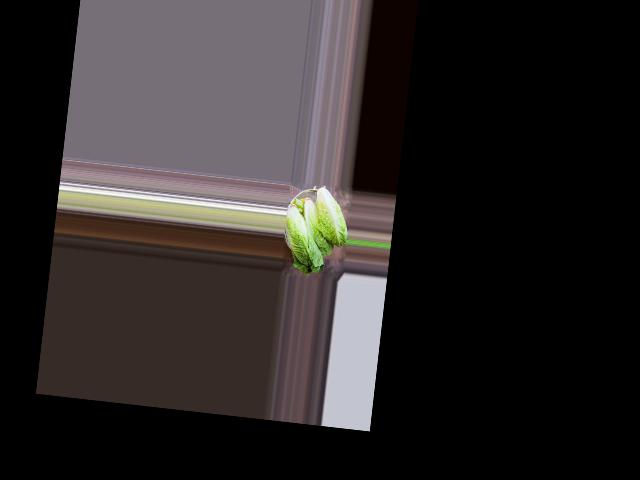lettuce: (280, 198, 331, 273)
